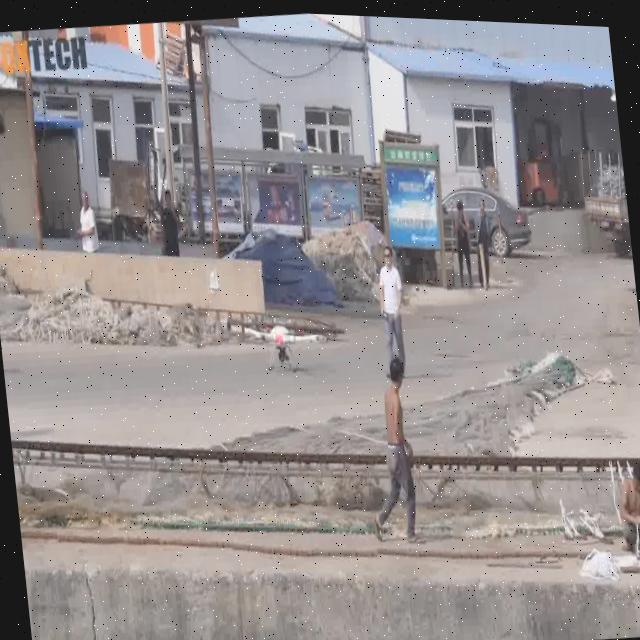drone: (235, 300, 328, 375)
